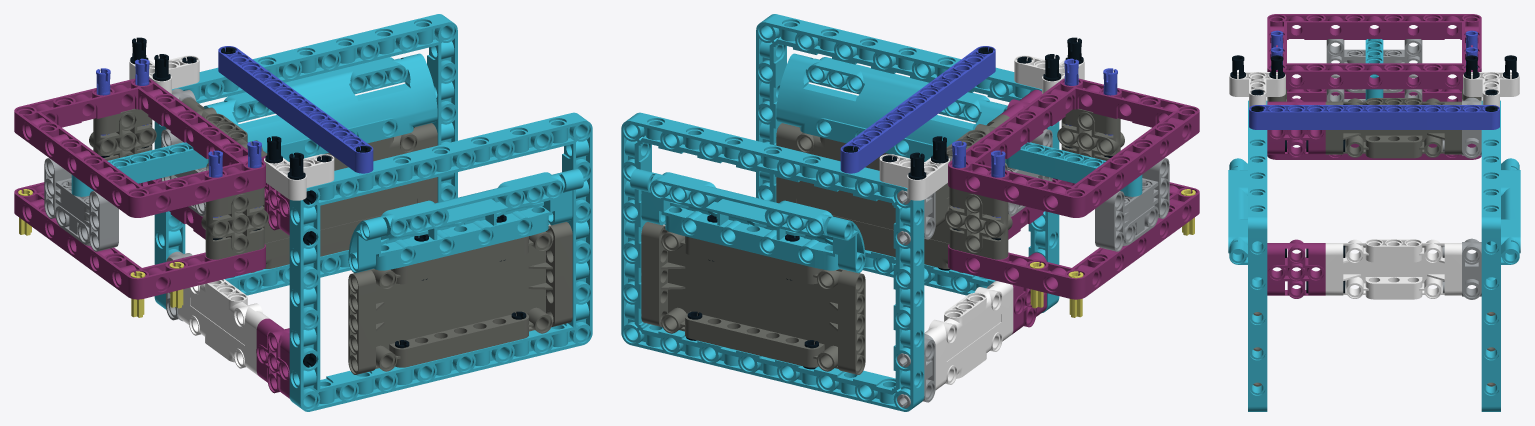
Rendered from Run_7.glb.
3 views of the same model, side by side, from view 1: azimuth 30°, elevation 25°; view 2: azimuth 150°, elevation 25°; view 3: azimuth 270°, elevation 25° (orthographic). The views are drawn at different scales.
Visible parts, largest first — view 1: Node; view 2: Node; view 3: Node.
Part boxes in pixels (<box>): Node: <box>14,14,592,411</box>; Node: <box>621,14,1199,411</box>; Node: <box>1228,14,1520,411</box>.
Size of the model in its own units: 460 by 260 by 300.
